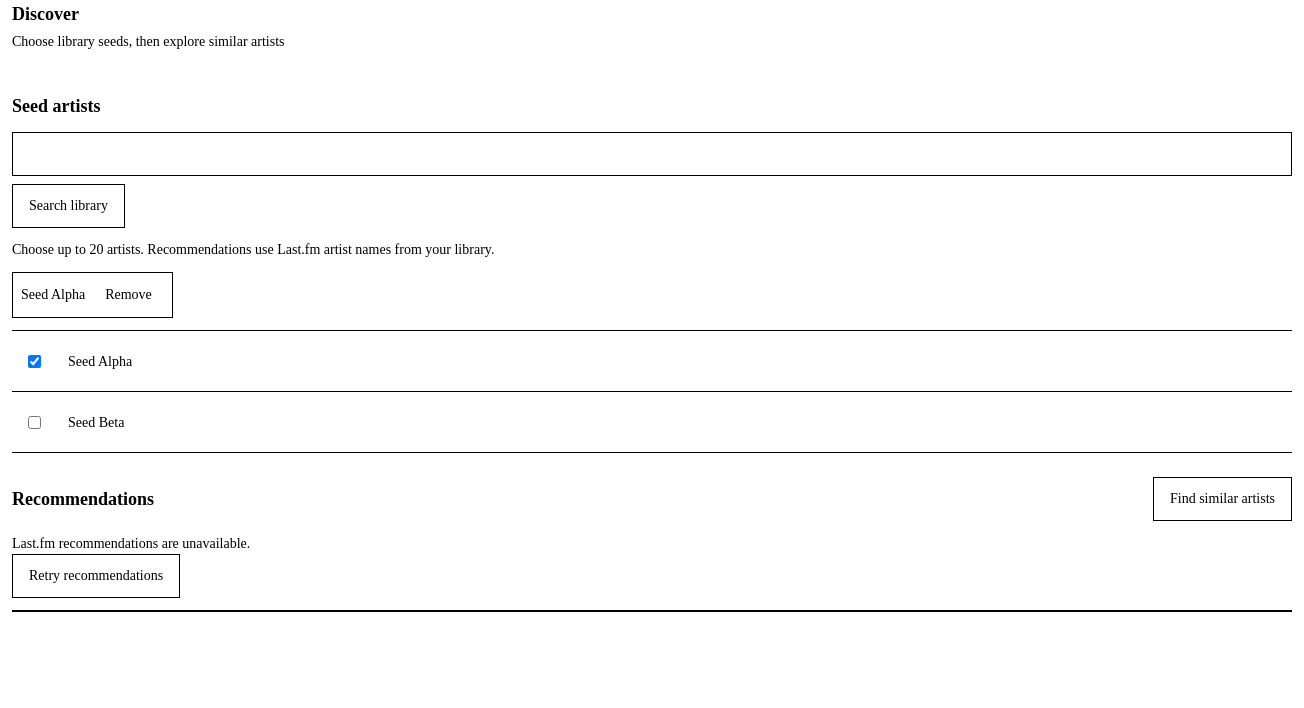
Test case: discovery flow › separates no matches, total provider outage, partial availability and HTTP failures
The width and height of the screenshot is (1304, 708).
Check: the text "Last.fm recommendations are unavailable." is shown, box [12, 536, 250, 551]
Check: the text "No new matches for these seed artists." is not shown
Click the button "Retry recommendations": (96, 576) [12, 554, 180, 598]
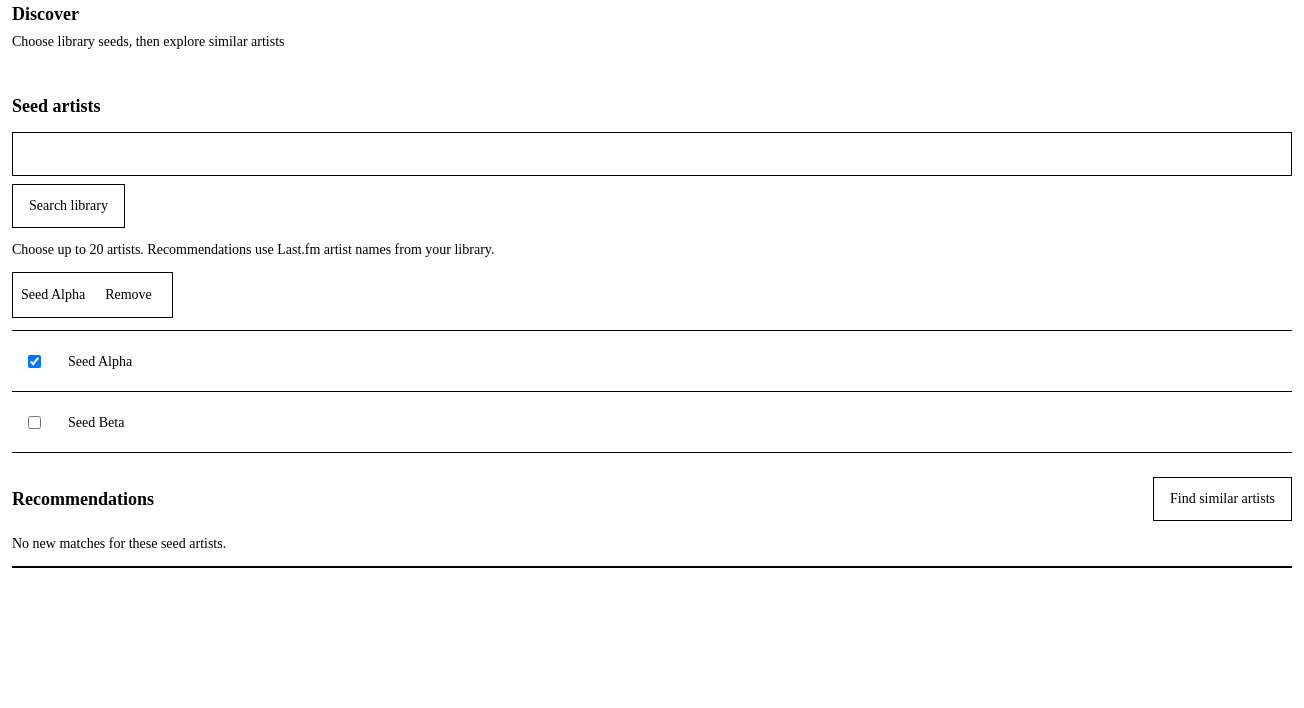
Check: the text "No new matches for these seed artists." is shown, box [12, 536, 226, 551]
Click the button "Find similar artists": (1222, 499) [1153, 477, 1292, 521]
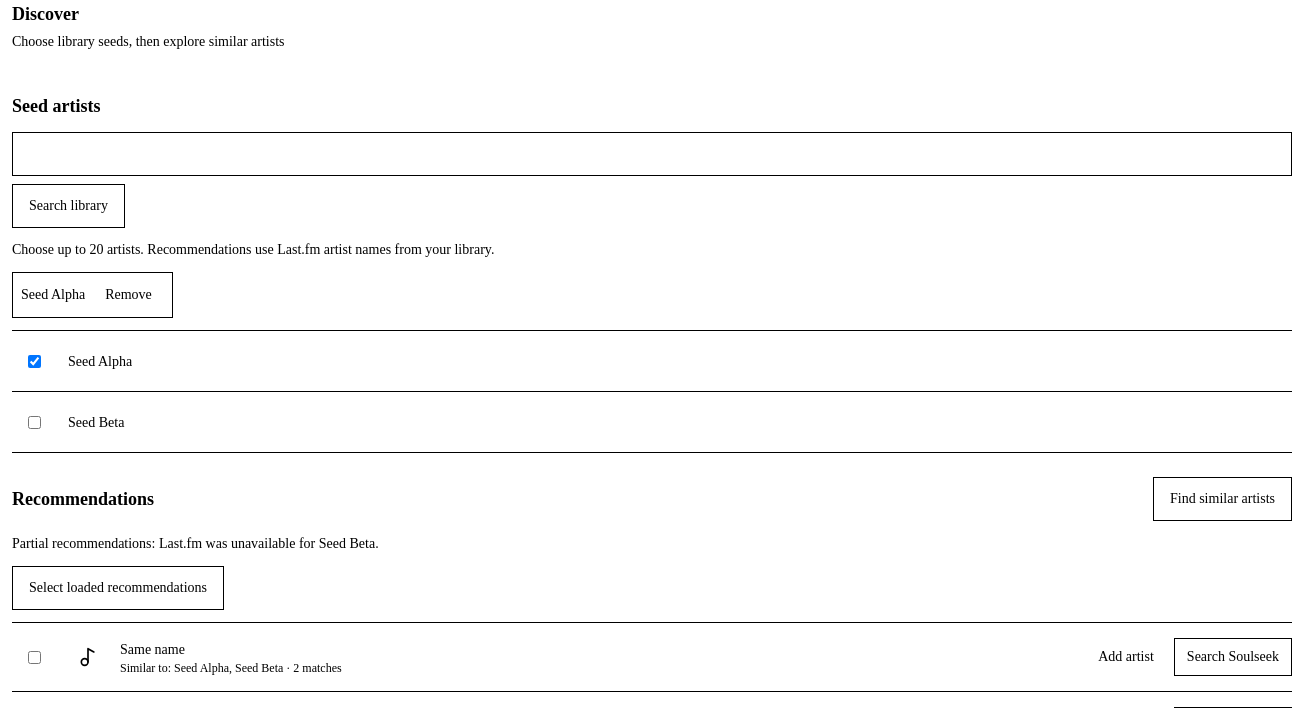
Check: the text "Partial recommendations: Last.fm was unavailable for Seed Beta." is shown, box [12, 536, 379, 551]
Check: the text "Similar to: Seed Alpha, Seed Beta ·" is shown 2 times
Click the button "Find similar artists": (1222, 499) [1153, 477, 1292, 521]
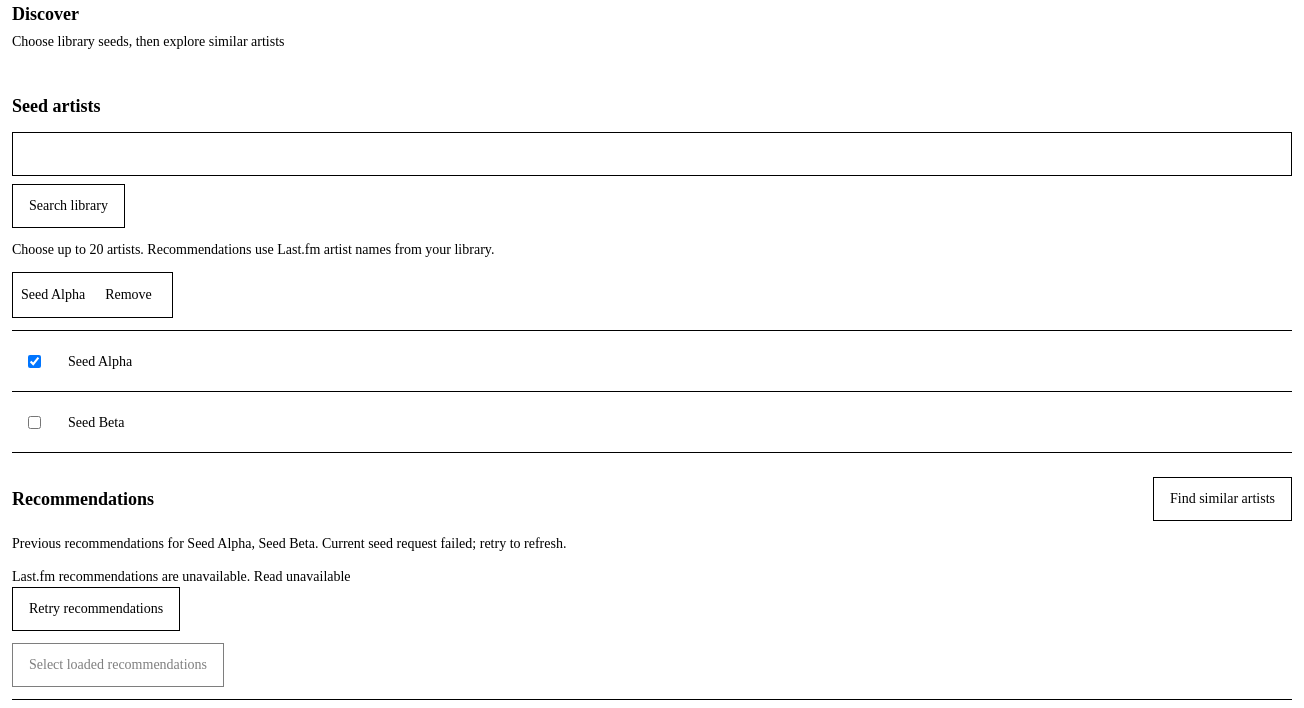
Check: the text "Last.fm recommendations are unavailable. Read unavailable" is shown, box [12, 569, 351, 584]
